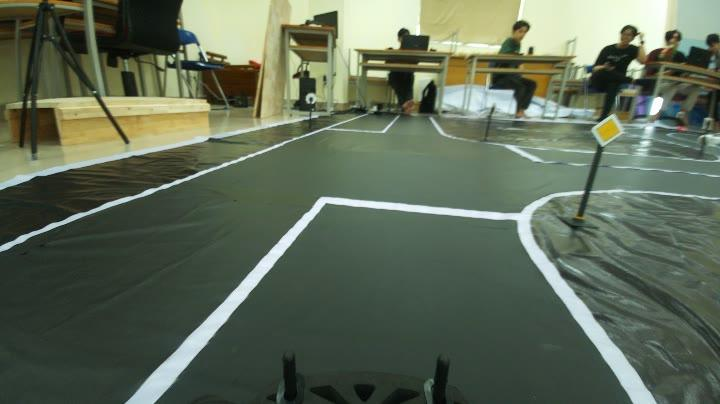priority: (588, 102, 626, 152)
